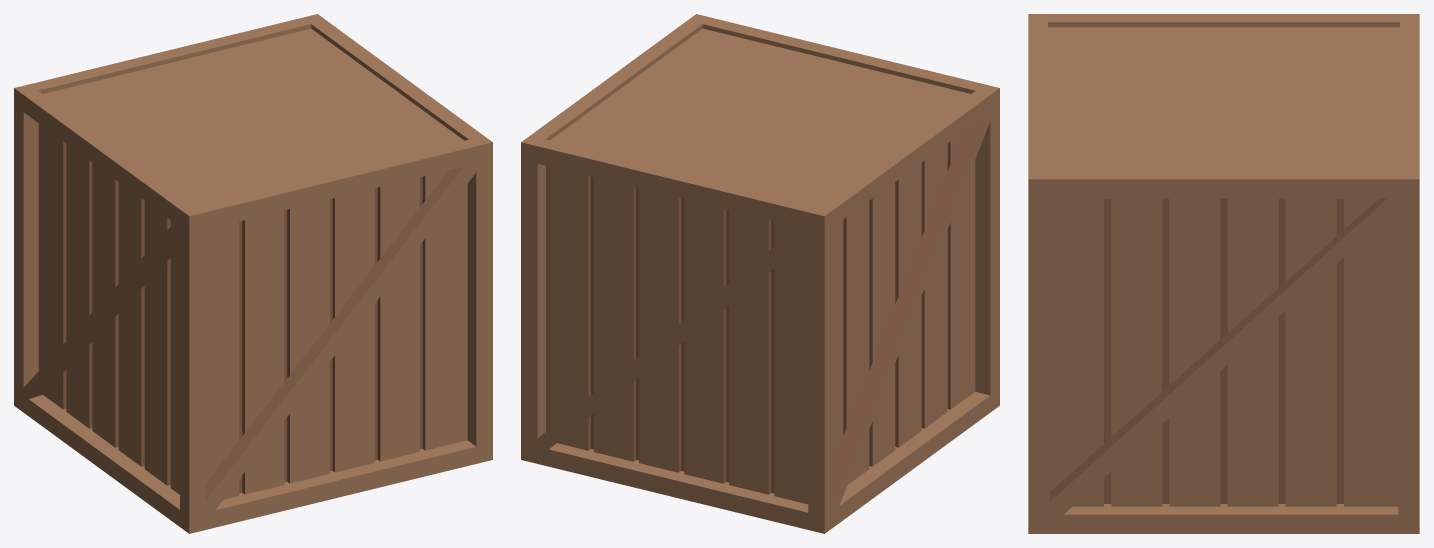
The model's file is crate.fbx.
3 renders of one model, left to right at view 1: azimuth 30°, elevation 25°; view 2: azimuth 150°, elevation 25°; view 3: azimuth 270°, elevation 25°, orthographic. The views are drawn at different scales.
Parts seen in each view (by area): view 1: Cube; view 2: Cube; view 3: Cube.
Boxes of the visible parts, x1,y1,x2,y2 form: Cube: (14, 14, 492, 533); Cube: (521, 14, 999, 533); Cube: (1028, 14, 1419, 533).
Size of the model in its own units: 200 by 200 by 200.
